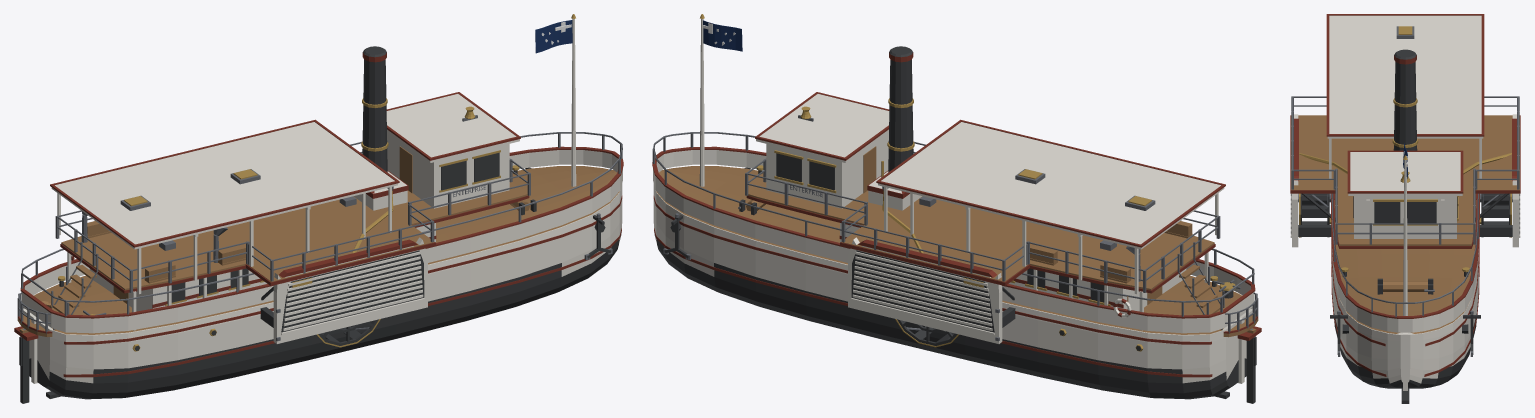
File: SN_Paddle_Steamer.glb
3 renders of one model, left to right at view 1: azimuth 30°, elevation 25°; view 2: azimuth 150°, elevation 25°; view 3: azimuth 270°, elevation 25°, orthographic. The views are drawn at different scales.
Visible parts, largest first — view 1: SN_PS_Hull, SN_PS_Canopy, SN_PS_Promenade, SN_PS_Bulwark, SN_PS_Wheelhouse, SN_PS_Paddle_Box_Starboard, SN_PS_Deck, SN_PS_Sponson_Starboard, SN_PS_Funnel, SN_PS_Cabin, SN_PS_Hull_Strakes, SN_PS_Upper_Railings (+9 smaller); view 2: SN_PS_Hull, SN_PS_Canopy, SN_PS_Promenade, SN_PS_Wheelhouse, SN_PS_Bulwark, SN_PS_Paddle_Box_Port, SN_PS_Deck, SN_PS_Sponson_Port, SN_PS_Funnel, SN_PS_Cabin, SN_PS_Hull_Strakes, SN_PS_Upper_Railings (+9 smaller); view 3: SN_PS_Canopy, SN_PS_Wheelhouse, SN_PS_Hull, SN_PS_Deck, SN_PS_Promenade, SN_PS_Sponson_Port, SN_PS_Sponson_Starboard, SN_PS_Bulwark, SN_PS_Funnel, SN_PS_Bow_Fittings, SN_PS_Upper_Railings, SN_PS_Paddle_Box_Port (+9 smaller).
Part boxes in pixels (x1,y1,x2,y2): SN_PS_Hull: (23, 184, 622, 399); SN_PS_Canopy: (50, 119, 399, 294); SN_PS_Promenade: (60, 182, 529, 330); SN_PS_Bulwark: (20, 146, 623, 333); SN_PS_Wheelhouse: (386, 92, 520, 208); SN_PS_Paddle_Box_Starboard: (260, 237, 427, 343); SN_PS_Deck: (34, 166, 619, 334); SN_PS_Sponson_Starboard: (245, 204, 435, 300); SN_PS_Funnel: (354, 46, 408, 210); SN_PS_Cabin: (89, 196, 436, 311); SN_PS_Hull_Strakes: (63, 195, 622, 377); SN_PS_Upper_Railings: (55, 141, 530, 292); SN_PS_Hull: (653, 184, 1252, 399); SN_PS_Canopy: (876, 119, 1225, 294); SN_PS_Promenade: (746, 182, 1215, 330); SN_PS_Wheelhouse: (755, 92, 889, 208); SN_PS_Bulwark: (652, 146, 1255, 333); SN_PS_Paddle_Box_Port: (848, 237, 1015, 343); SN_PS_Deck: (656, 166, 1241, 334); SN_PS_Sponson_Port: (840, 204, 1030, 300); SN_PS_Funnel: (867, 46, 921, 210); SN_PS_Cabin: (839, 196, 1186, 311); SN_PS_Hull_Strakes: (653, 195, 1212, 377); SN_PS_Upper_Railings: (745, 141, 1220, 292); SN_PS_Canopy: (1326, 14, 1484, 178); SN_PS_Wheelhouse: (1347, 150, 1463, 238); SN_PS_Hull: (1331, 259, 1479, 388); SN_PS_Deck: (1334, 194, 1476, 333); SN_PS_Promenade: (1336, 138, 1474, 248); SN_PS_Sponson_Port: (1473, 96, 1520, 221); SN_PS_Sponson_Starboard: (1290, 96, 1336, 221); SN_PS_Bulwark: (1331, 193, 1479, 332); SN_PS_Funnel: (1392, 49, 1418, 150); SN_PS_Bow_Fittings: (1330, 267, 1480, 356); SN_PS_Upper_Railings: (1335, 168, 1475, 244); SN_PS_Paddle_Box_Port: (1479, 114, 1520, 247).
Size of the model in its own units: 24.56 by 10.47 by 8.74.
